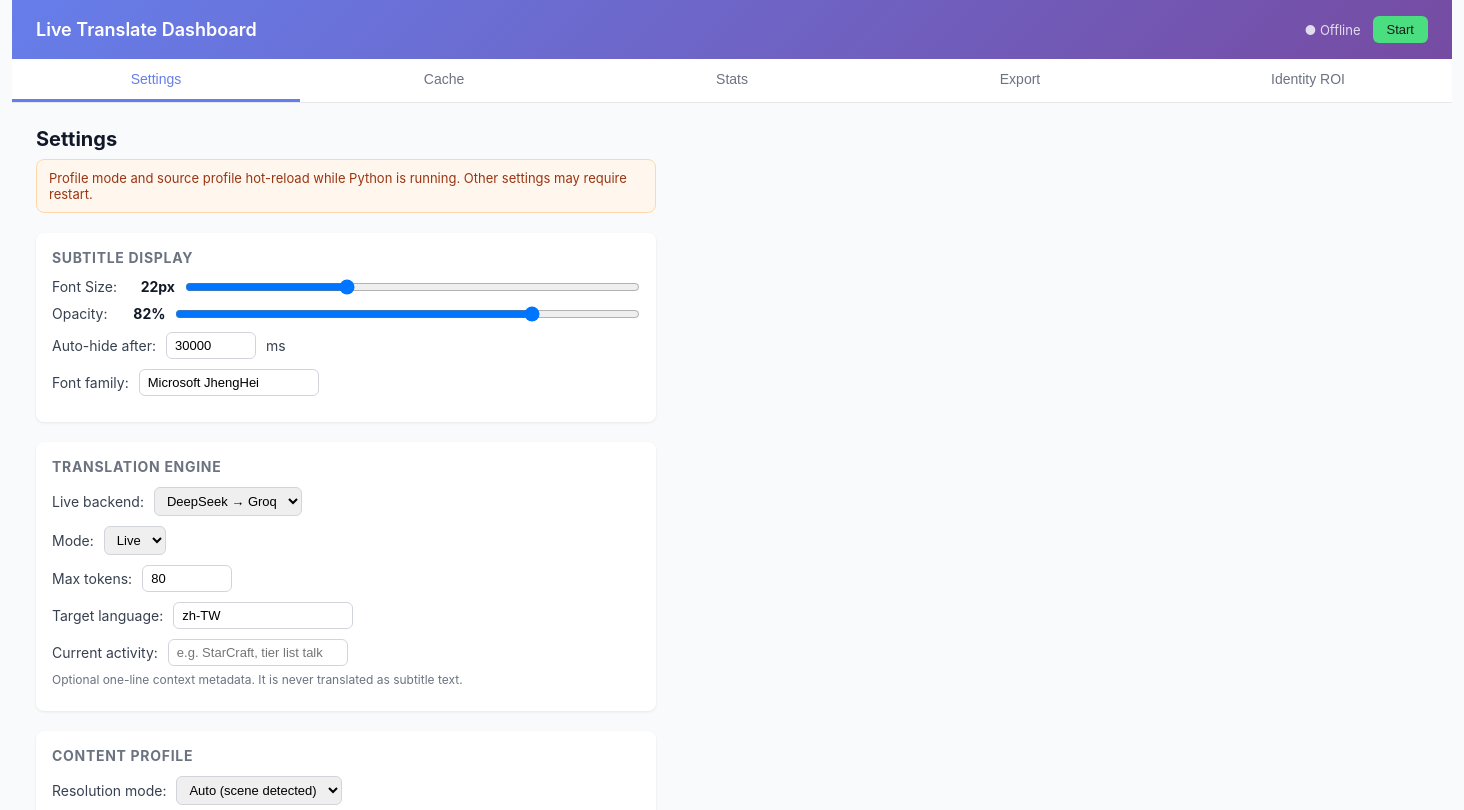
Test: Dashboard › switches to Stats tab when clicked
The image size is (1464, 810).
Click the button "Stats".
click(732, 80)  # box left=588, top=59, right=876, bottom=102
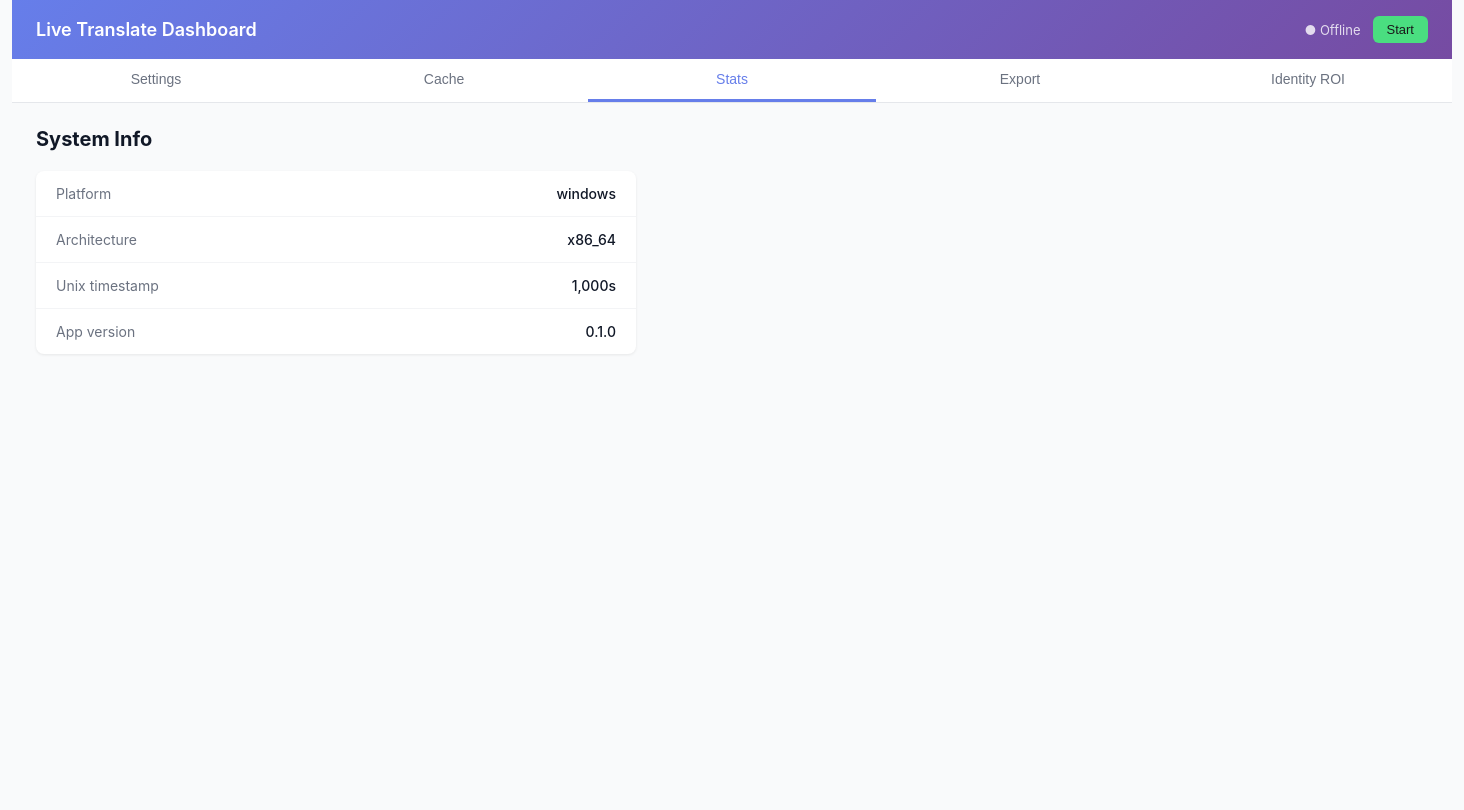
expect the element that starts with "System Info" is shown: met, box left=36, top=127, right=636, bottom=354
